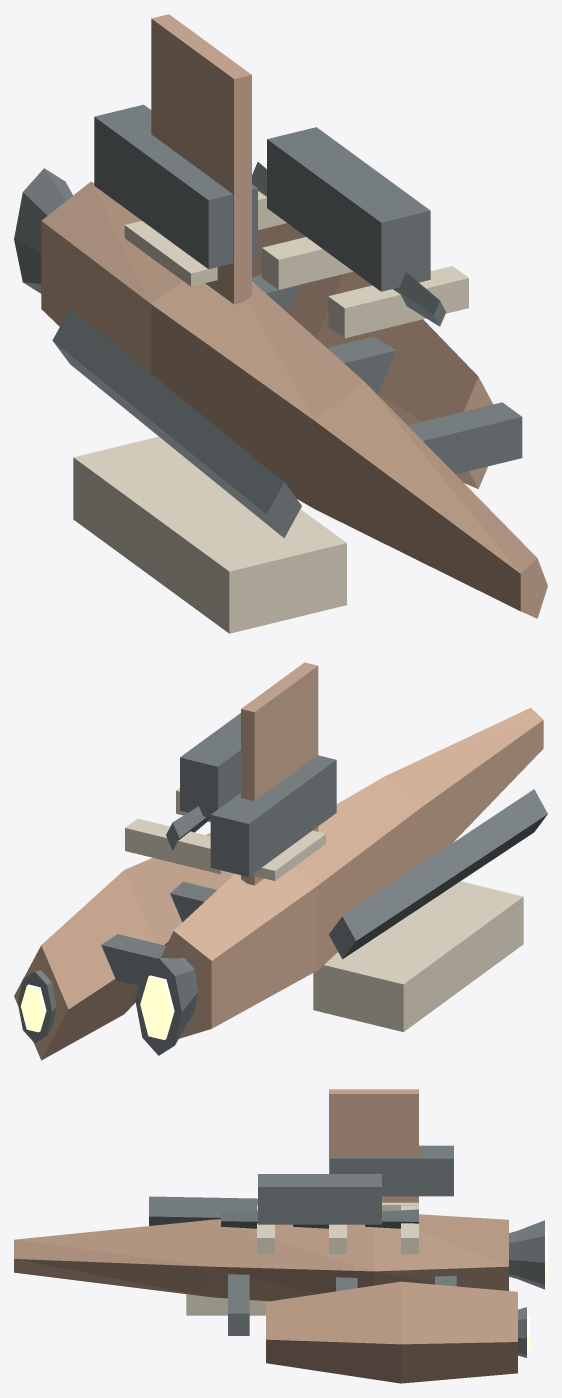
3 renders of one model, top to bottom at view 1: azimuth 30°, elevation 25°; view 2: azimuth 150°, elevation 25°; view 3: azimuth 270°, elevation 25°, orthographic. The views are drawn at different scales.
Size of the model in its own units: 4.45 by 5.22 by 10.33.
